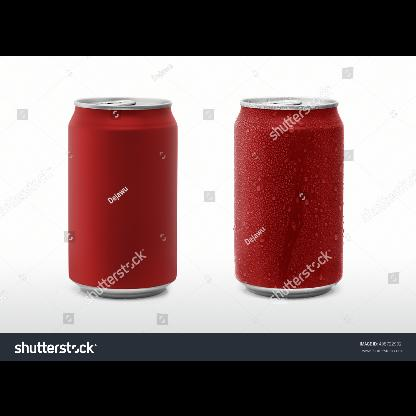Dent_Can: (64, 94, 180, 302)
